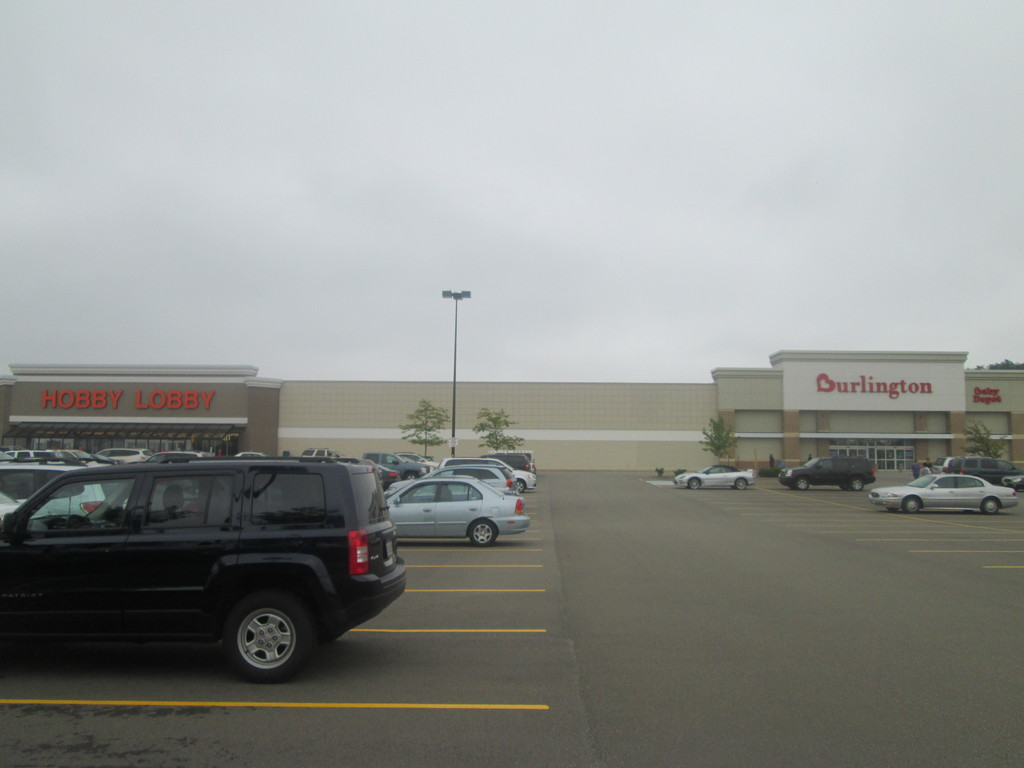Car: (2, 449, 536, 684), (864, 473, 1016, 517), (776, 455, 876, 489), (672, 464, 756, 489), (949, 456, 1023, 481), (1000, 473, 1023, 486), (928, 457, 949, 471)
